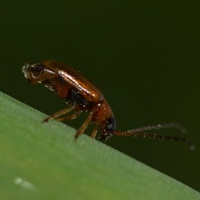insect: (22, 60, 115, 140)
